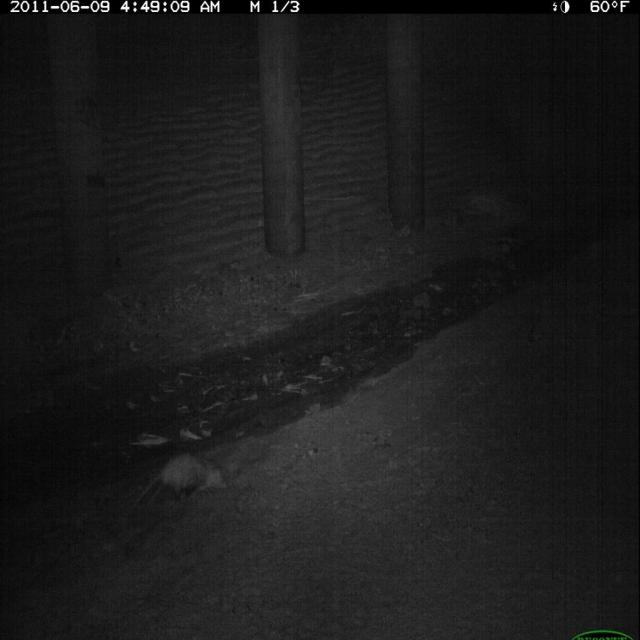opossum: (130, 449, 233, 513)
